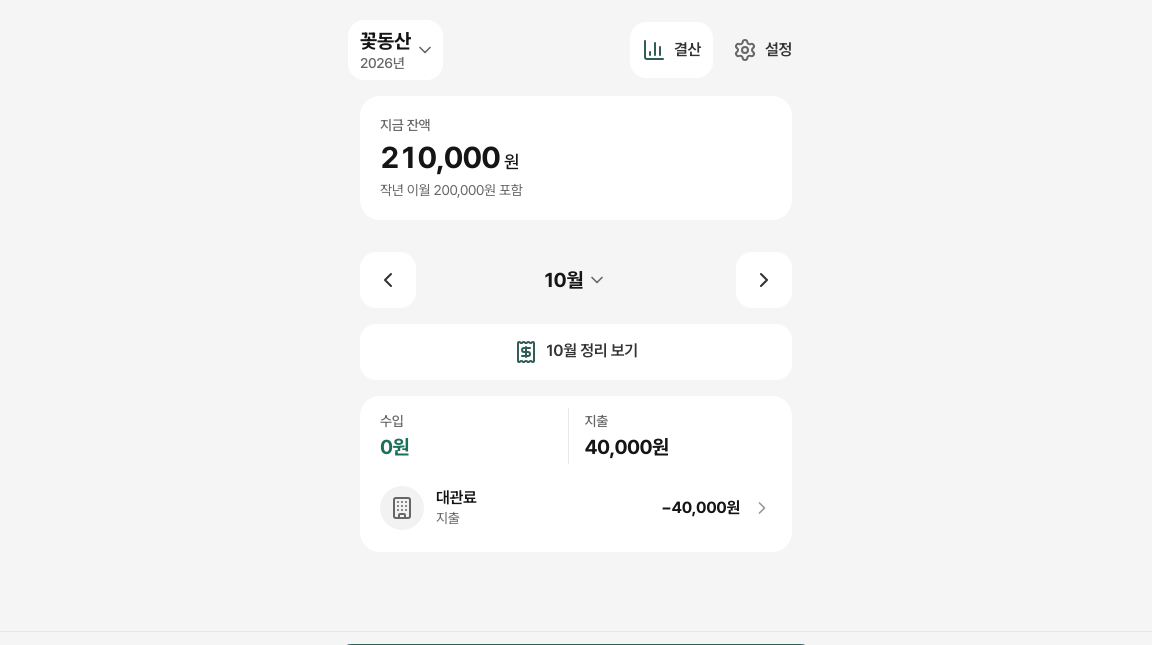
it: SPEC-002 기록 파일 보내기·불러오기 › 보내기 › AC-6 공유 화면에 오늘 날짜 백업 파일을 보내고, 보냈으면 마지막 백업 시각만 기록하고 알린다
Click the button "설정" at {"x": 762, "y": 50}, box x1=721 y1=22 x2=804 y2=78
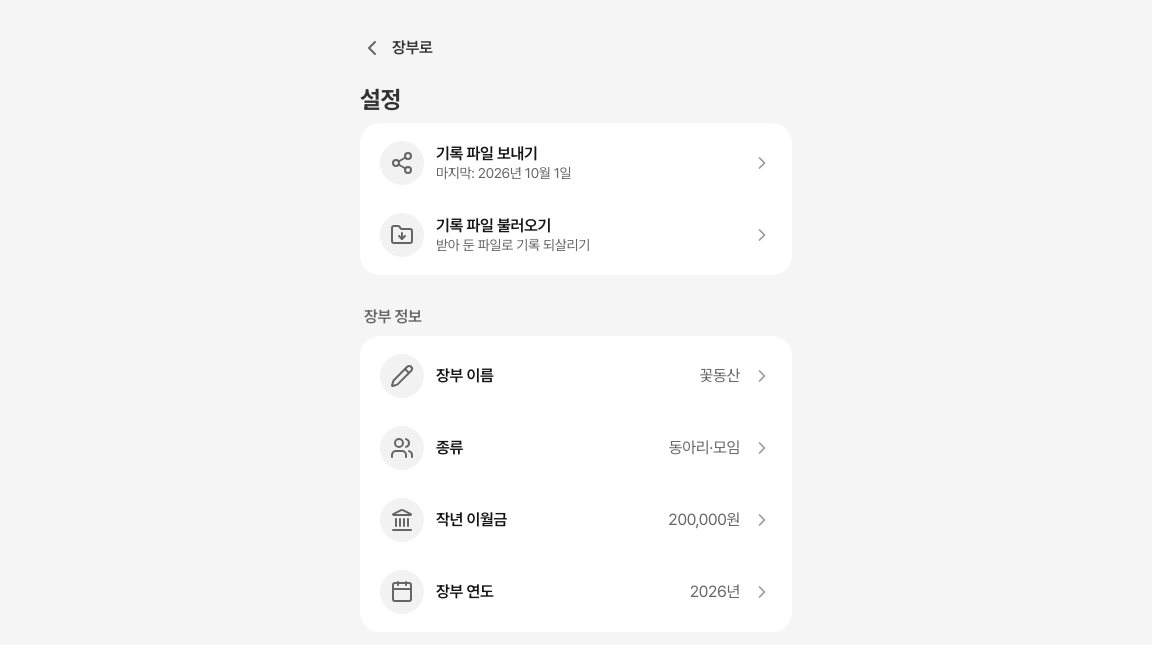
Click the button "기록 파일 보내기 마지막: 2026년 10월 1일" at {"x": 402, "y": 163}, box x1=360 y1=127 x2=792 y2=199
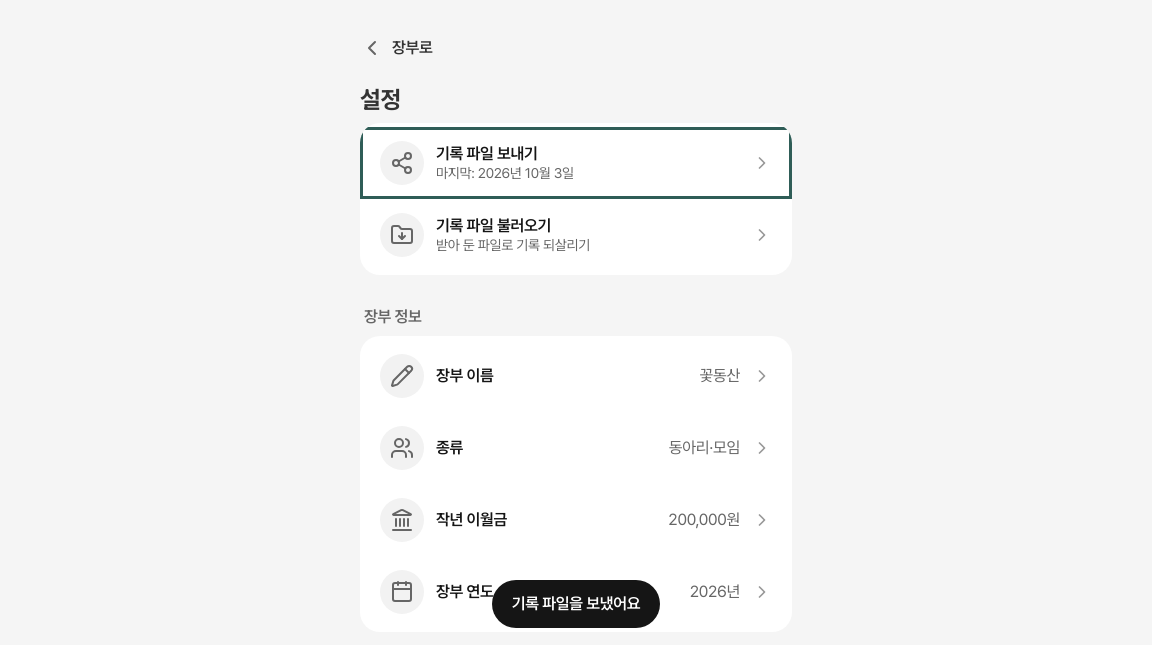
expect the text "기록 파일을 보냈어요" is shown: met, box x1=492 y1=580 x2=660 y2=628
